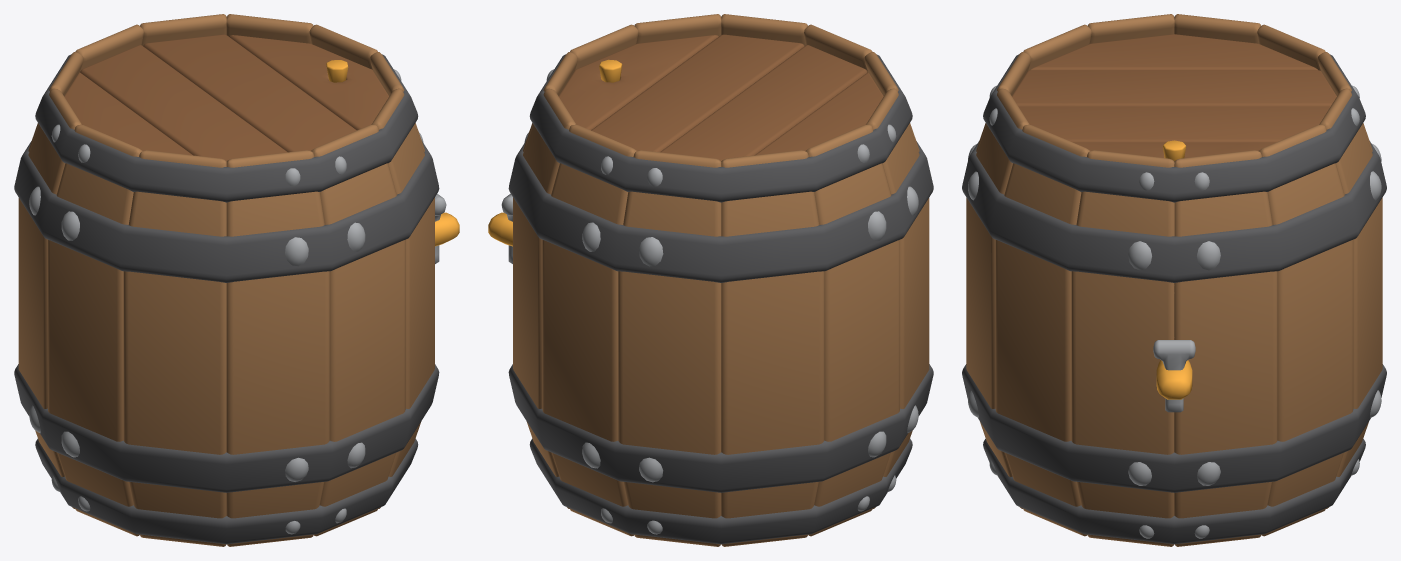
The model's file is Barell.fbx.
3 renders of one model, left to right at view 1: azimuth 30°, elevation 25°; view 2: azimuth 150°, elevation 25°; view 3: azimuth 270°, elevation 25°, orthographic.
Visible parts, largest first — view 1: Barell; view 2: Barell; view 3: Barell.
Boxes of the visible parts, x1,y1,x2,y2 form: Barell: [14, 14, 459, 546]; Barell: [488, 14, 933, 546]; Barell: [962, 14, 1386, 546].
Size of the model in its own units: 2.43 by 2.17 by 2.16.
1 material, 1 textured.
